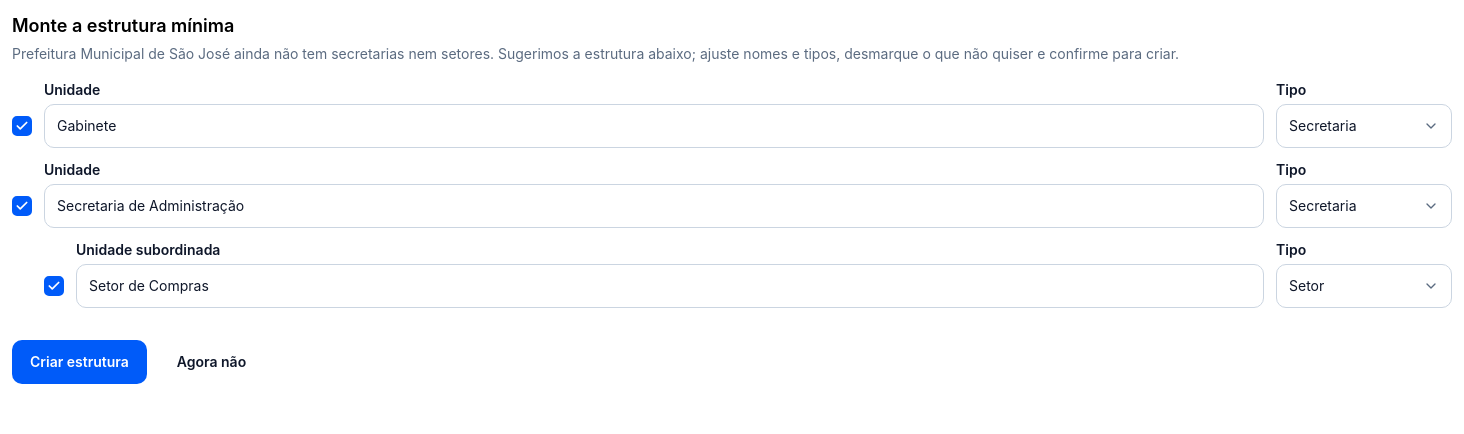
Test: ImplementationAssistant (SCR-032 · US-099) › nome inválido bloqueia a criação com a mensagem no campo
Clear the 1st field showing "Gabinete" at (654, 126), box [44, 104, 1264, 148]
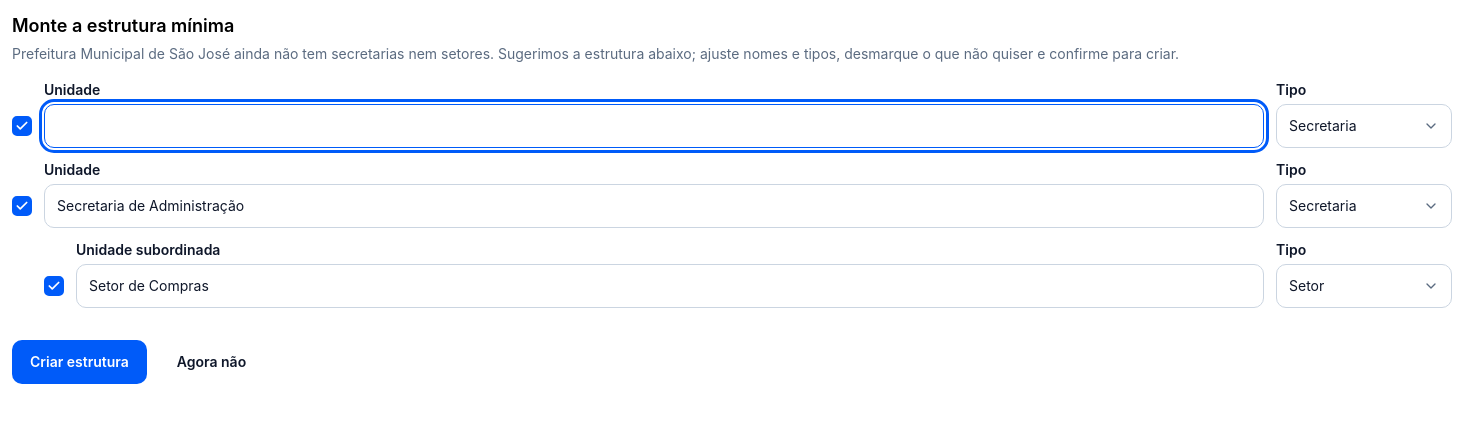
Click the button "Criar estrutura" at (79, 362), box [12, 340, 147, 384]
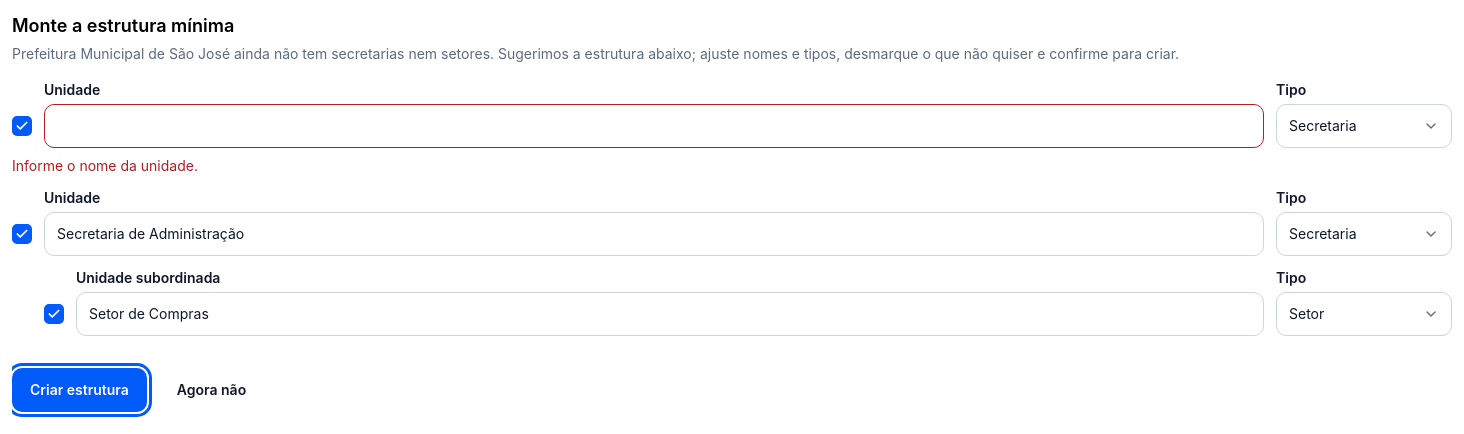
Expected: the text "Informe o nome da unidade." is shown, [12, 157, 198, 174]
